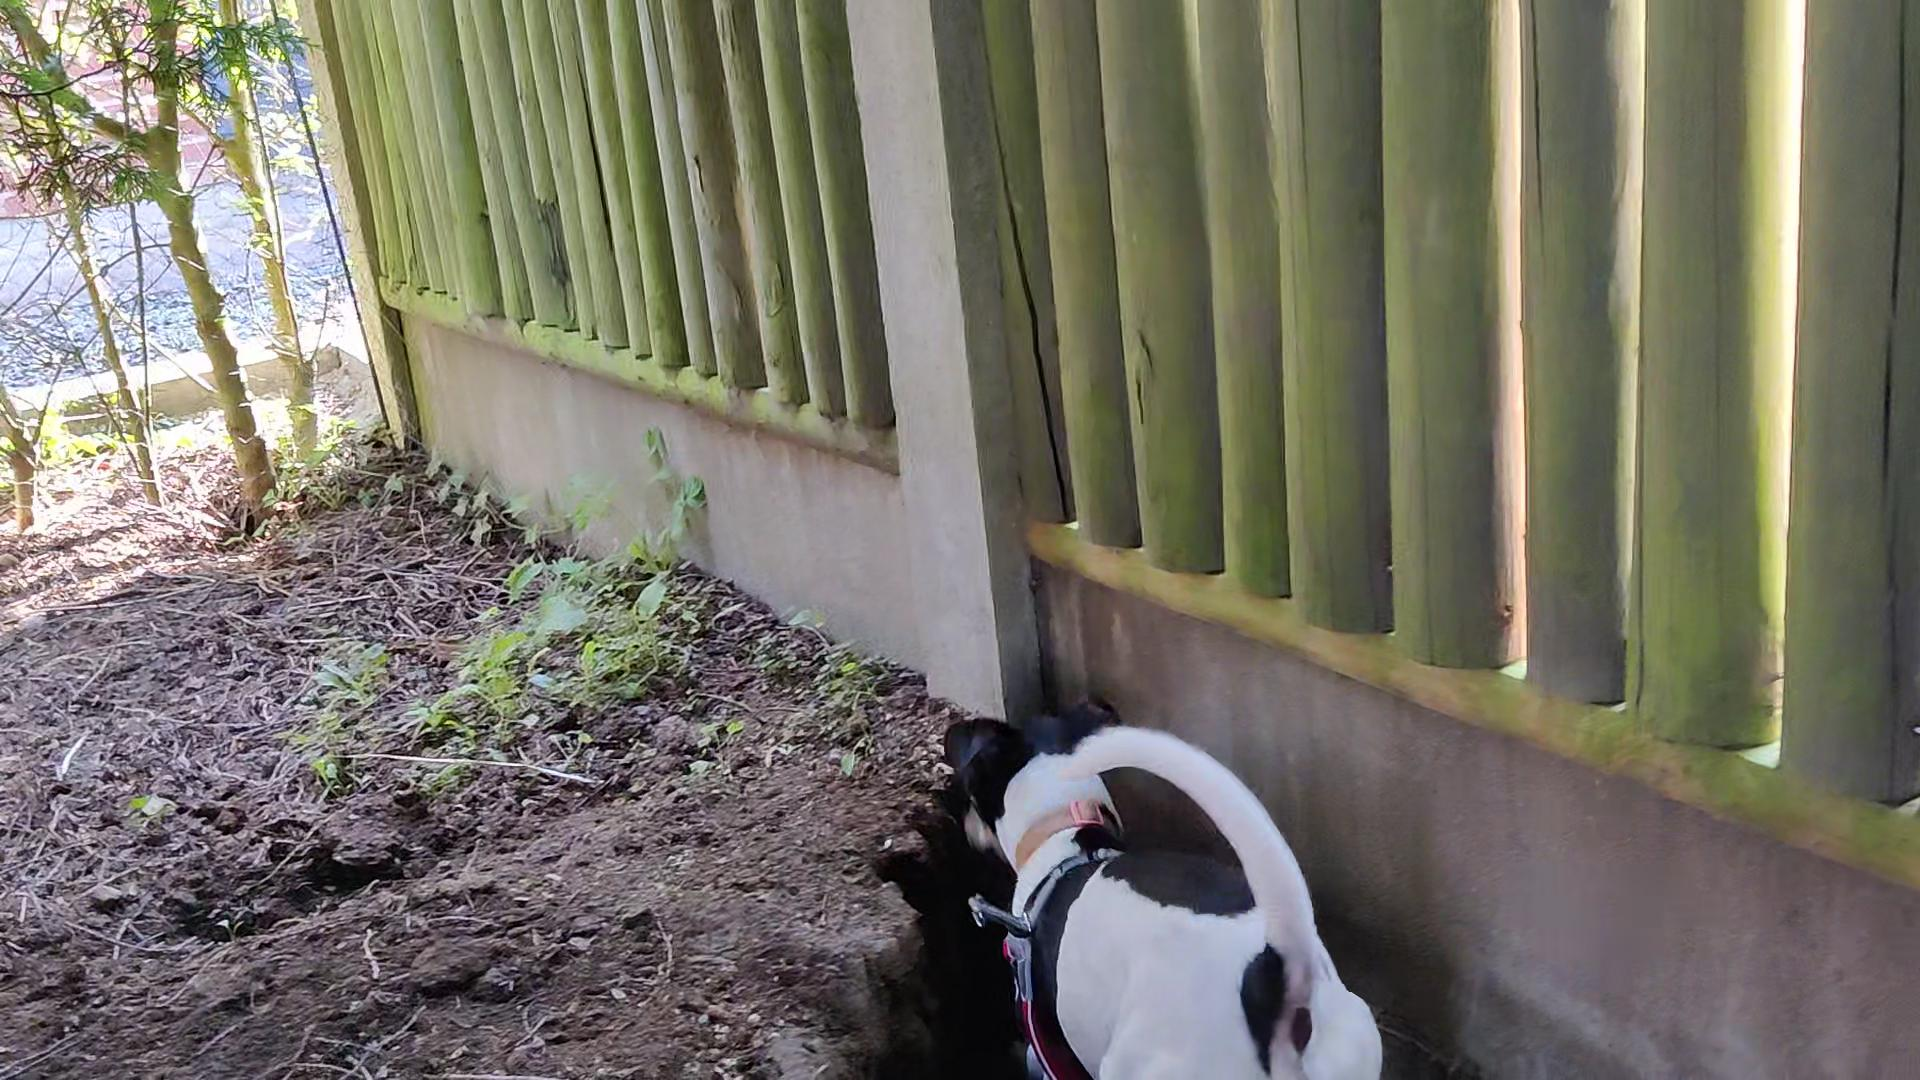Dog: (924, 673, 1411, 1079)
